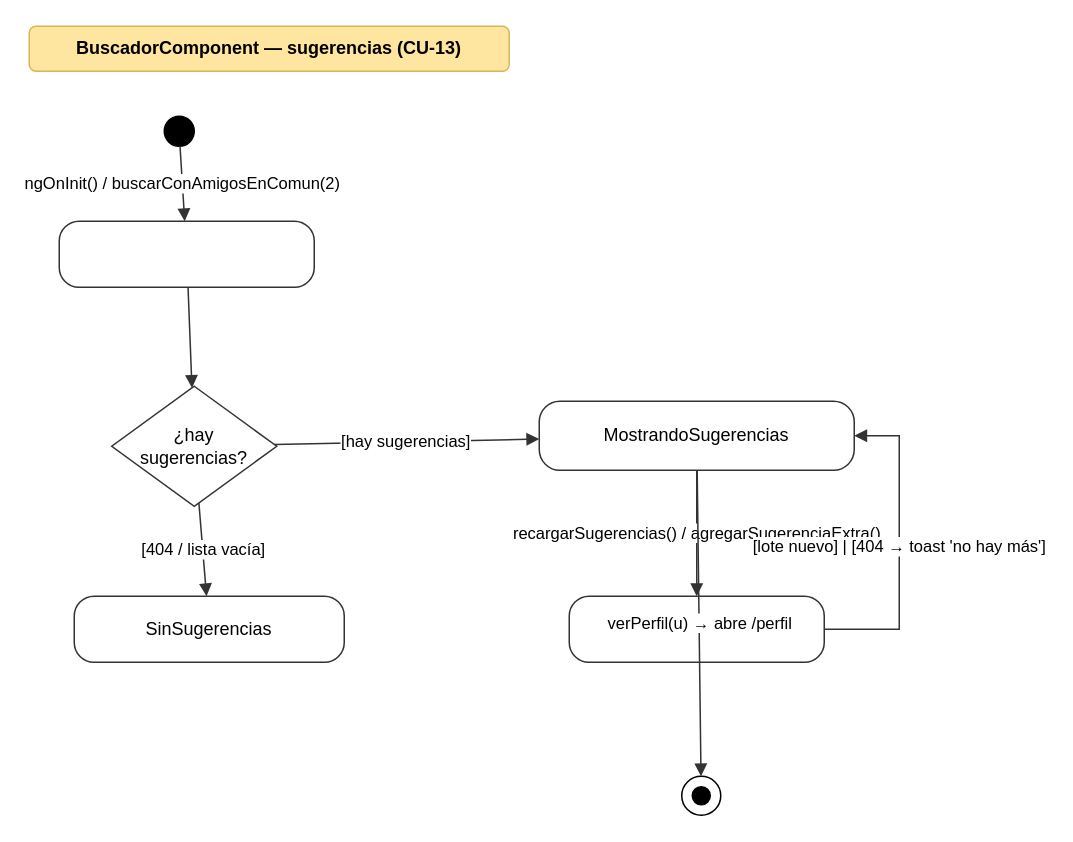
Some shapes in this 1073 by 842 pixel diagram are drawn without their labels. The shapes that lost their labels are listed below. From the top down, each one's centre as x and y in pixels, then its label:
At (x=186, y=253): "Cargando".
At (x=696, y=628): "Recargando".
